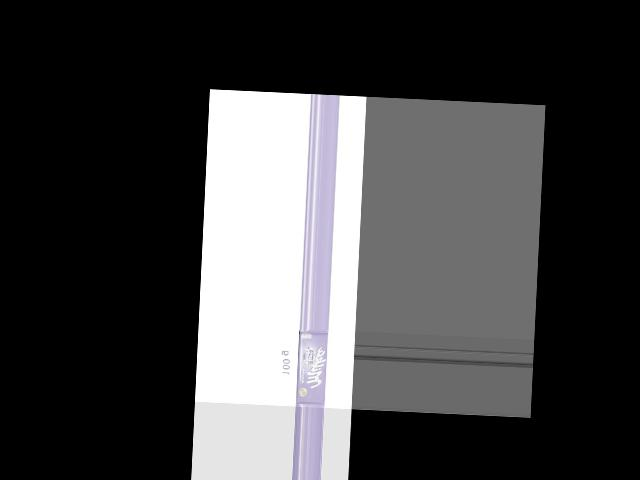chocolate: (290, 327, 328, 405)
